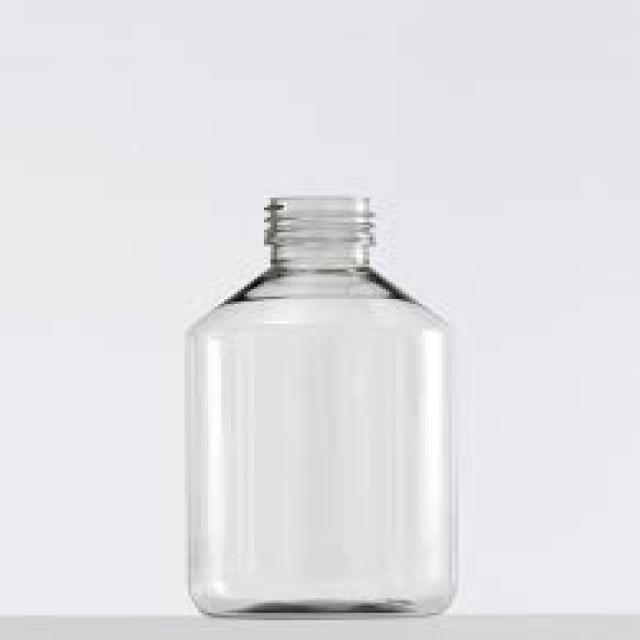glass: (185, 195, 452, 613)
